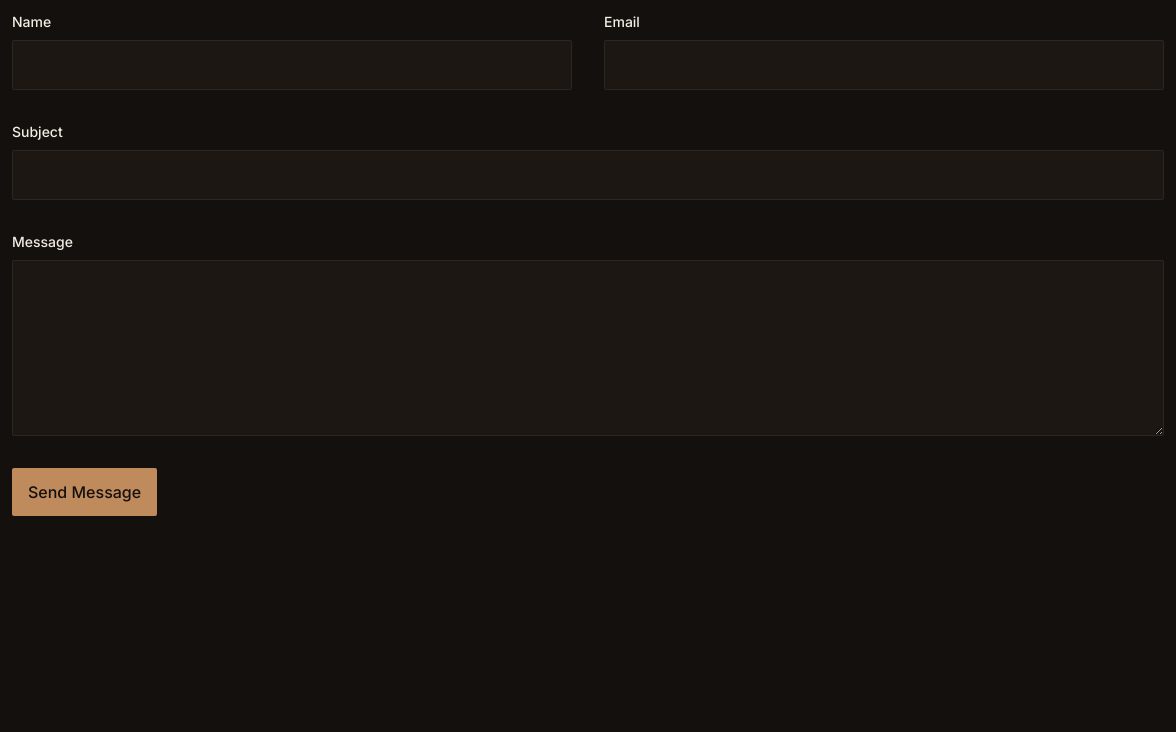
Test: ContactForm — validation › rejects a malformed email
In the field labelled "Name": (292, 65) [12,40,572,90], type "Thandi Mokoena"
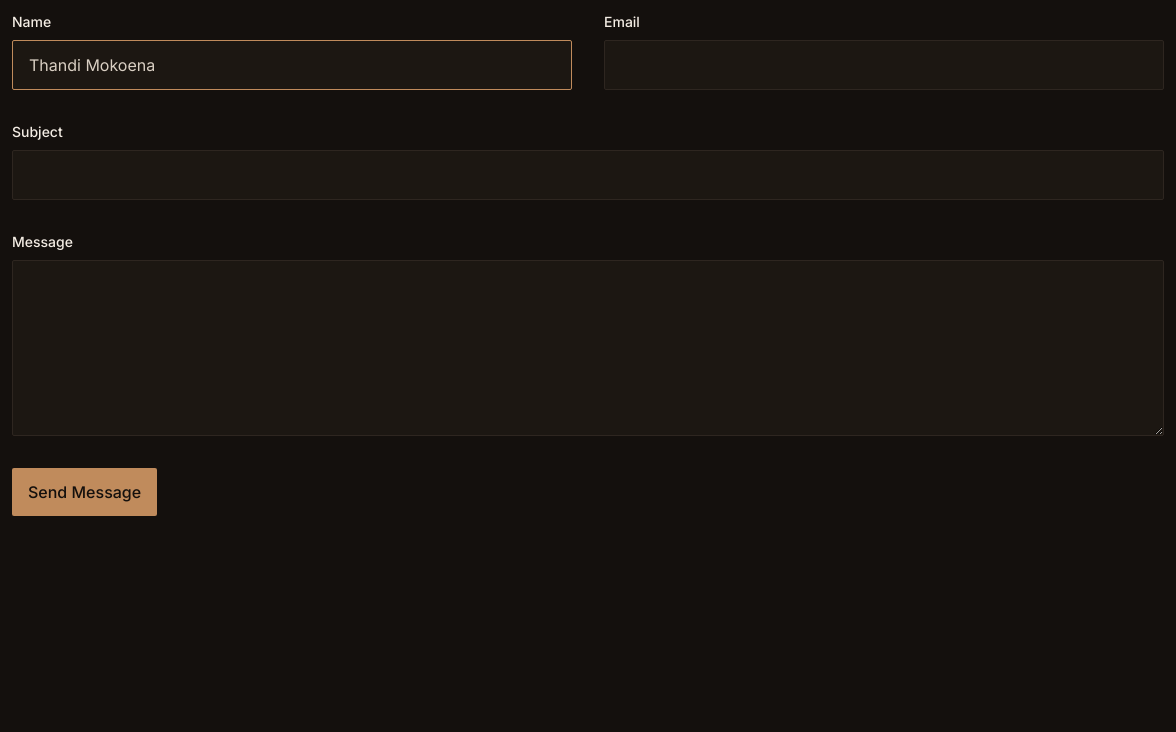
In the field labelled "Email": (884, 65) [604,40,1164,90], type "not-an-email"
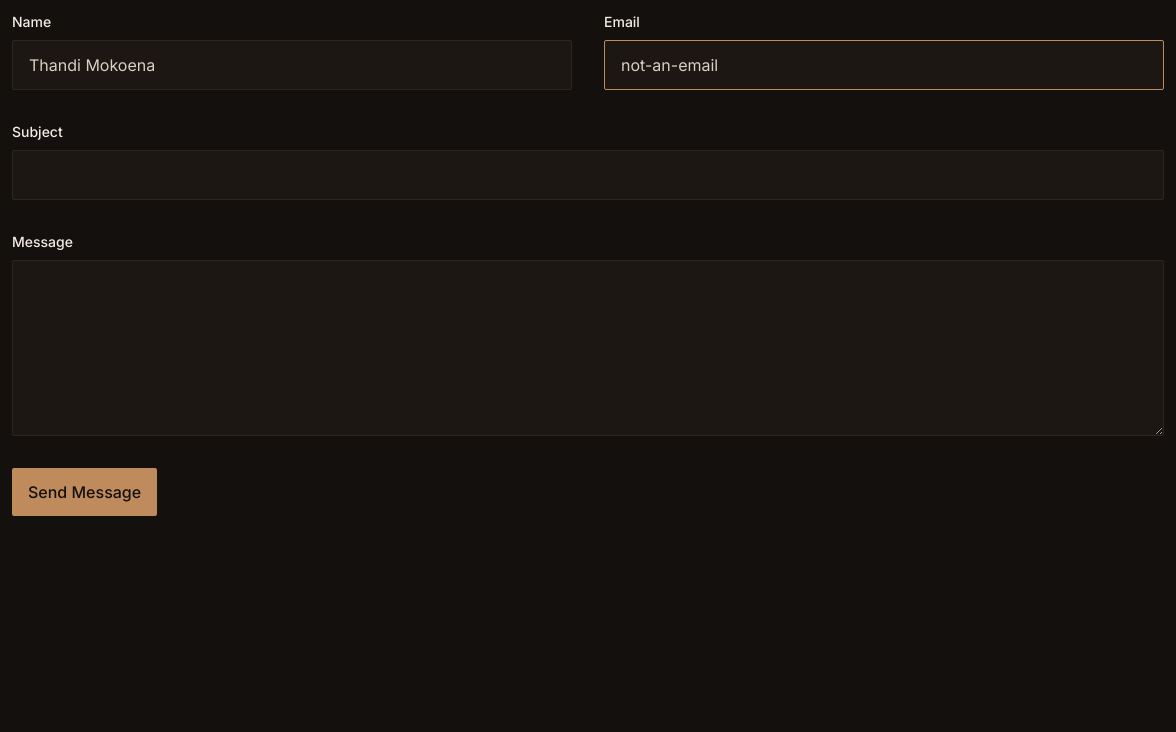
In the field labelled "Subject": (588, 175) [12,150,1164,200], type "Subscription question"
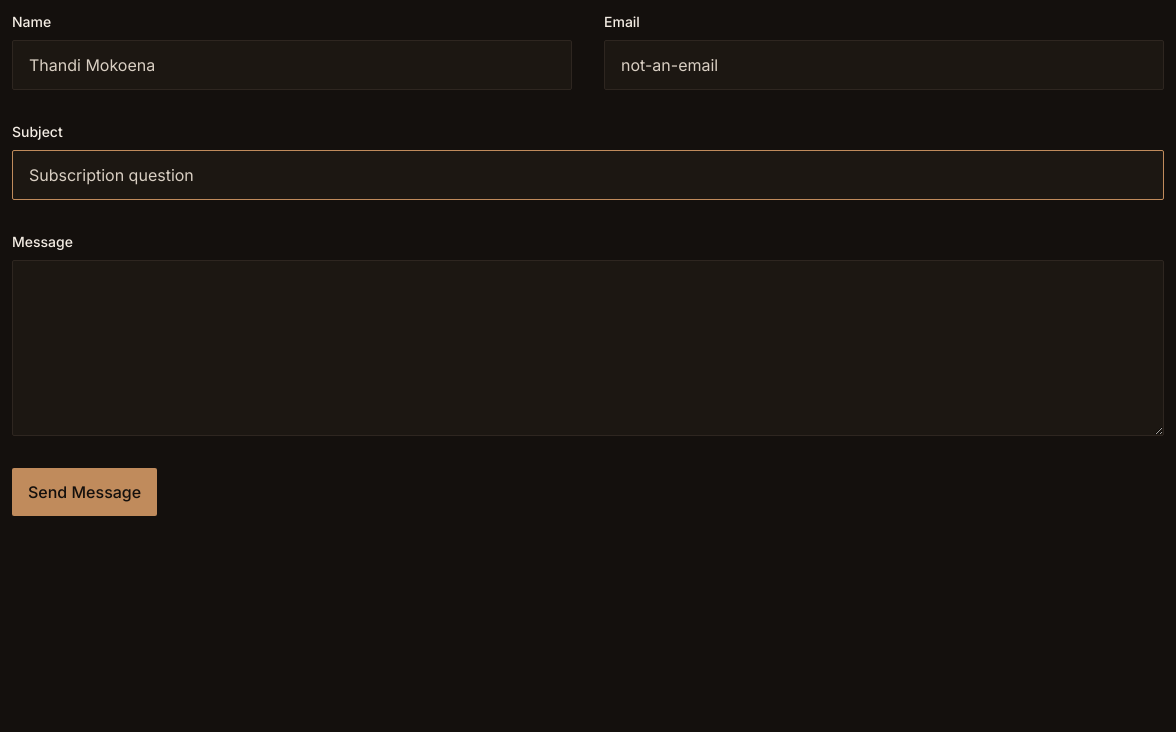
In the text box labelled "Message": (588, 348) [12,260,1164,436], type "I would like to know more about registering my artworks on the platform."
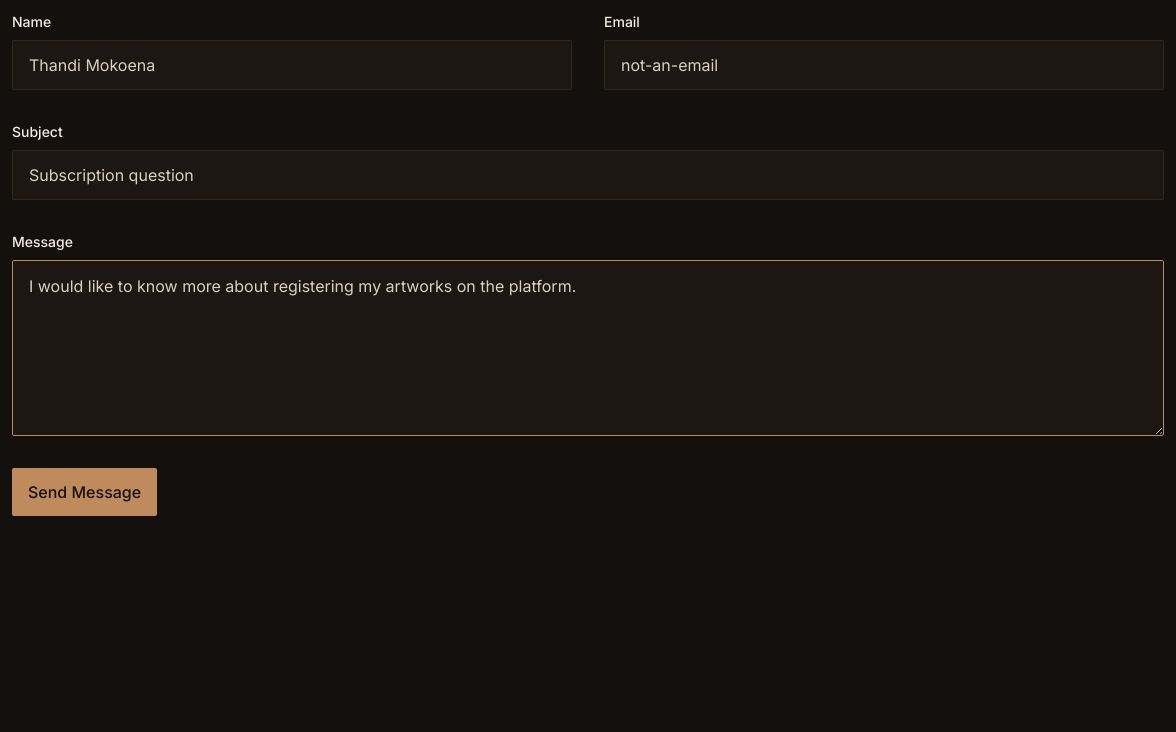
Click the button "Send Message": (85, 492) [12,468,157,516]
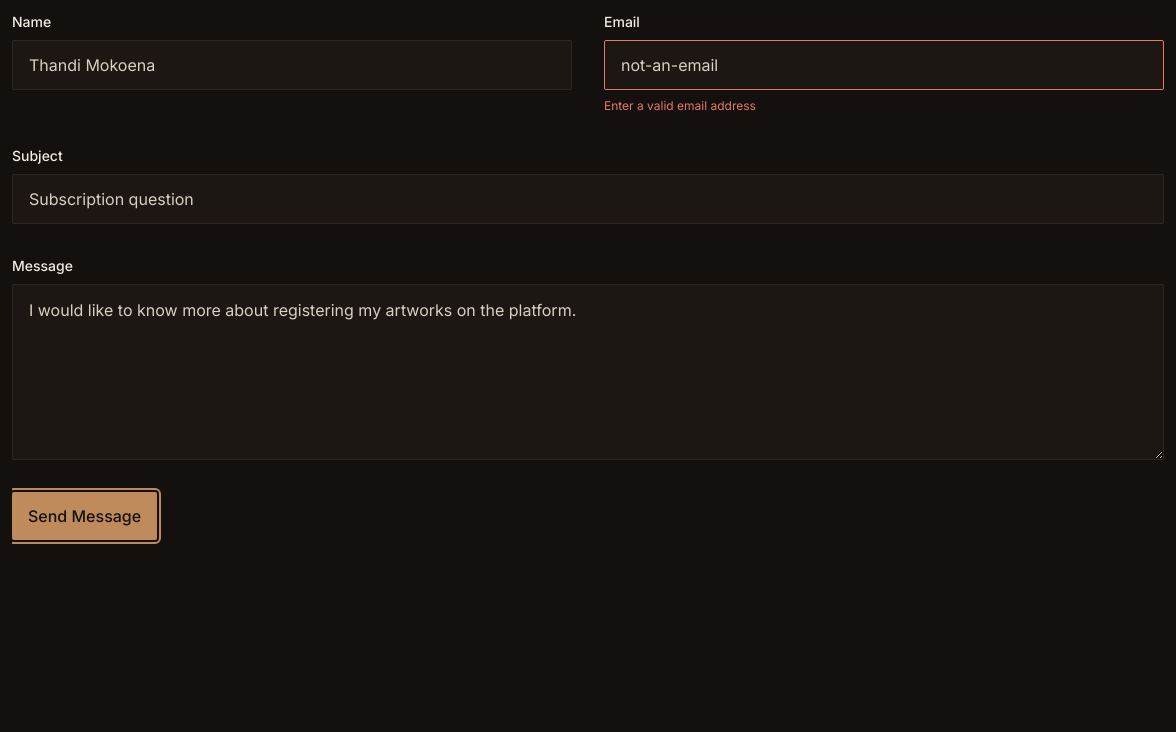
Expected: the text "Enter a valid email address" is shown, [604,98,756,113]
